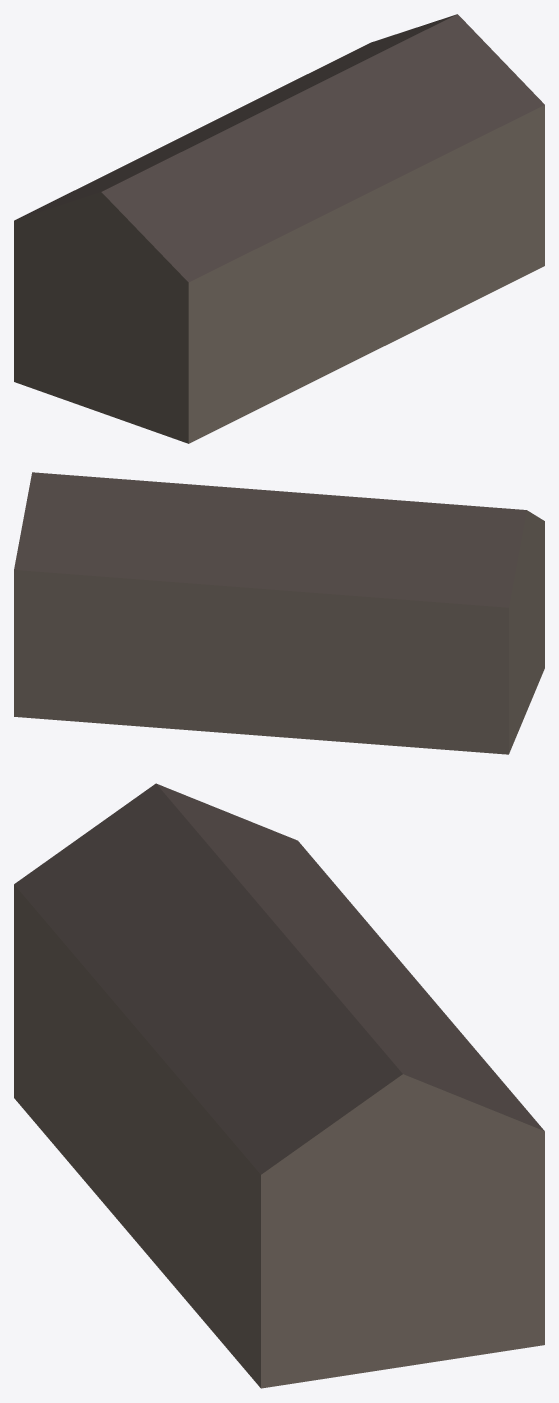
The picture shows the model from 3 angles, top to bottom: view 1: azimuth 30°, elevation 25°; view 2: azimuth 150°, elevation 25°; view 3: azimuth 270°, elevation 25°; orthographic projection. The views are drawn at different scales.
Parts seen in each view (by area): view 1: HP-w859082474; view 2: HP-w859082474; view 3: HP-w859082474.
Boxes of the visible parts, x1,y1,x2,y2 form: HP-w859082474: (14, 14, 544, 443); HP-w859082474: (14, 472, 544, 754); HP-w859082474: (14, 783, 544, 1388).
Size of the model in its own units: 20.13 by 8.22 by 13.52.
